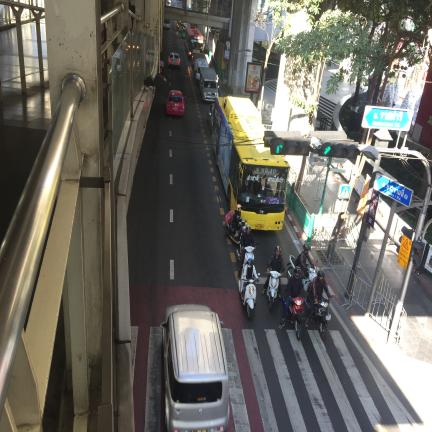bus: (212, 97, 289, 230), (184, 27, 204, 58)
car: (168, 52, 180, 68)
human: (305, 269, 332, 327), (279, 266, 302, 328), (262, 245, 284, 295), (238, 225, 255, 278), (241, 258, 258, 299), (296, 243, 314, 278), (232, 204, 241, 237), (278, 278, 282, 300), (160, 59, 164, 73)
motorbike: (284, 297, 307, 341), (310, 298, 331, 340), (239, 278, 259, 319), (223, 219, 247, 245), (267, 271, 281, 310), (302, 266, 319, 291), (242, 246, 255, 267), (287, 255, 296, 275), (237, 245, 241, 261), (160, 66, 163, 73), (255, 242, 259, 247), (258, 274, 260, 276)
taxi: (166, 90, 184, 116)
truck: (199, 67, 218, 101), (194, 58, 209, 85)
van: (161, 305, 229, 432)
